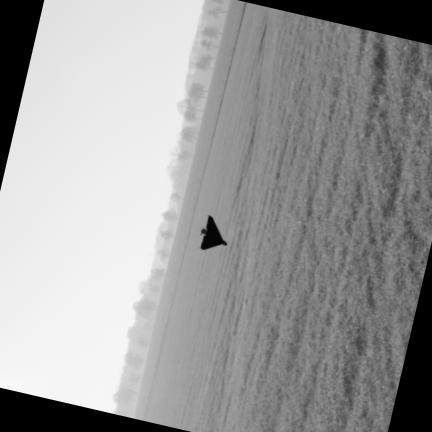Shahed: (200, 215, 226, 249)
